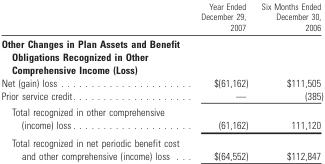table: (0, 0, 322, 160)
table column: (0, 0, 189, 160), (253, 0, 322, 160), (189, 0, 253, 160)
table column header: (0, 0, 322, 34)
table projected row header: (0, 34, 322, 75)
table row: (0, 34, 322, 75), (0, 0, 322, 34), (0, 103, 322, 133), (0, 133, 322, 160), (0, 88, 322, 103), (0, 75, 322, 88)
